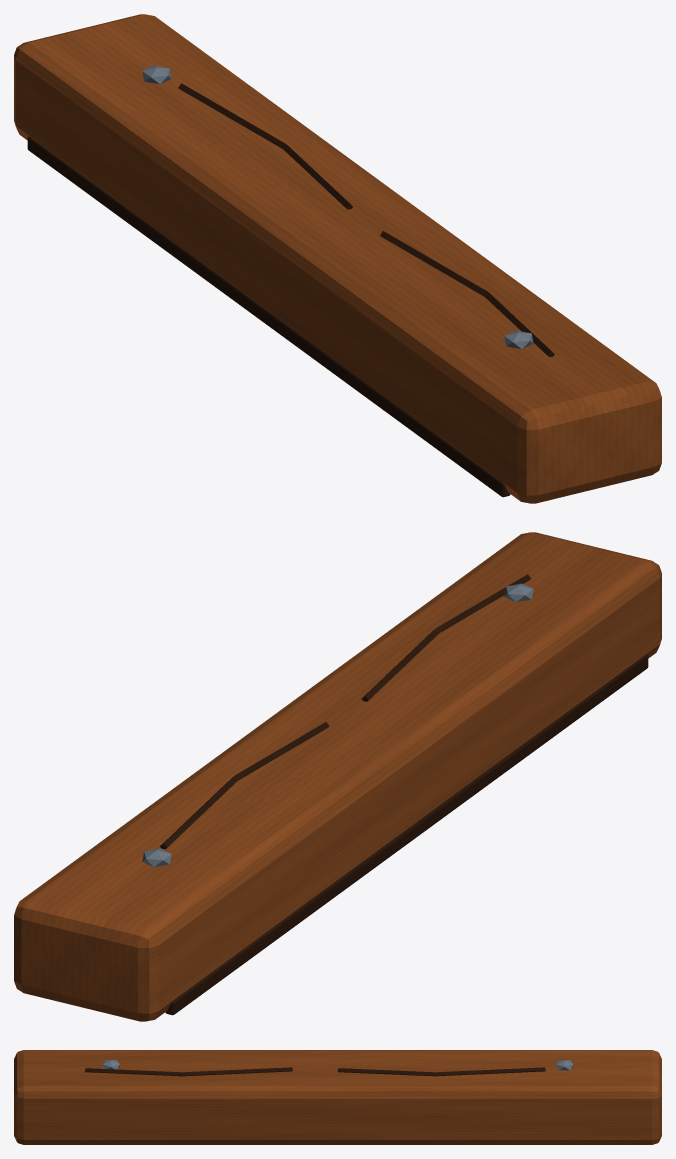
The model's file is forest_bridge_plank.glb.
3 views of the same model, one above another, from view 1: azimuth 30°, elevation 25°; view 2: azimuth 150°, elevation 25°; view 3: azimuth 270°, elevation 25° (orthographic). The views are drawn at different scales.
Visible parts, largest first — view 1: Bridge deck plank, Plank edge shadow, Deck plank grain.001, Deck plank grain; view 2: Bridge deck plank, Plank edge shadow, Deck plank grain.001, Deck plank grain; view 3: Bridge deck plank, Deck plank grain.001, Deck plank grain, Deck iron nail.001.
Boxes of the visible parts, x1,y1,x2,y2 form: Bridge deck plank: (14,14,661,503); Plank edge shadow: (27,136,510,497); Deck plank grain.001: (178,83,353,209); Deck plank grain: (380,231,554,357); Bridge deck plank: (14,532,661,1021); Plank edge shadow: (165,654,648,1015); Deck plank grain.001: (160,722,329,849); Deck plank grain: (361,574,530,701); Bridge deck plank: (14,1050,661,1144); Deck plank grain.001: (337,1067,545,1076); Deck plank grain: (85,1067,292,1076); Deck iron nail.001: (556,1060,573,1070).
Size of the model in its own units: 0.162 by 0.1135 by 1.
3 materials, 2 textured.
